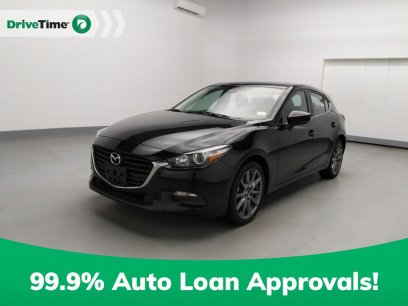Mazda3 Hatchback: (87, 79, 347, 229)
